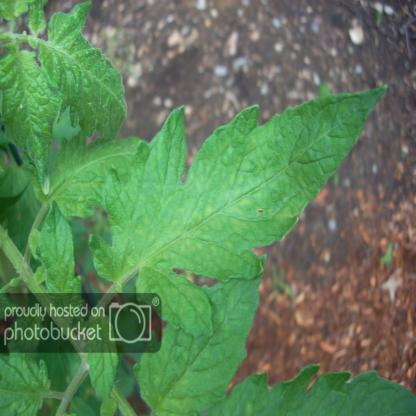Tomato mold leaf: (95, 80, 391, 331)
